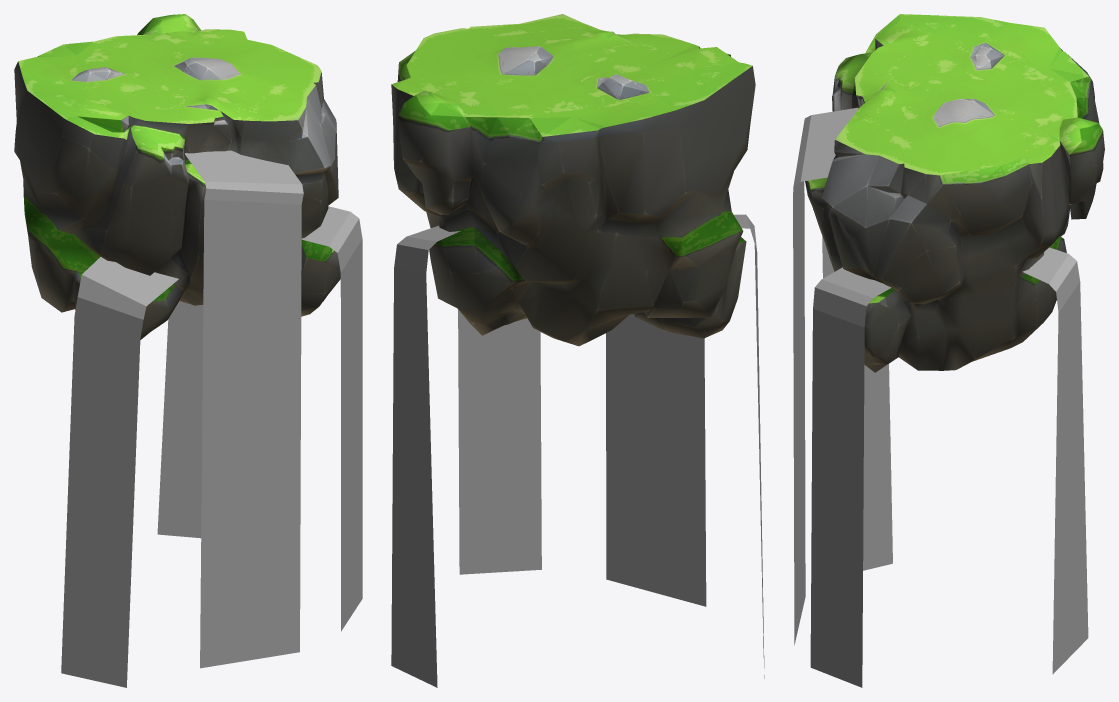
The model's file is Island.fbx.
3 renders of one model, left to right at view 1: azimuth 30°, elevation 25°; view 2: azimuth 150°, elevation 25°; view 3: azimuth 270°, elevation 25°, orthographic. The views are drawn at different scales.
Visible parts, largest first — view 1: water, Island; view 2: Island, water; view 3: Island, water.
Boxes of the visible parts, left/top/right/bottom form: water: left=61, top=150, right=362, bottom=687; Island: left=14, top=14, right=340, bottom=339; Island: left=391, top=14, right=755, bottom=346; water: left=391, top=214, right=764, bottom=687; Island: left=805, top=14, right=1104, bottom=372; water: left=793, top=107, right=1088, bottom=687.
Bounding box in the file's own units: 222 × 401 × 205.
